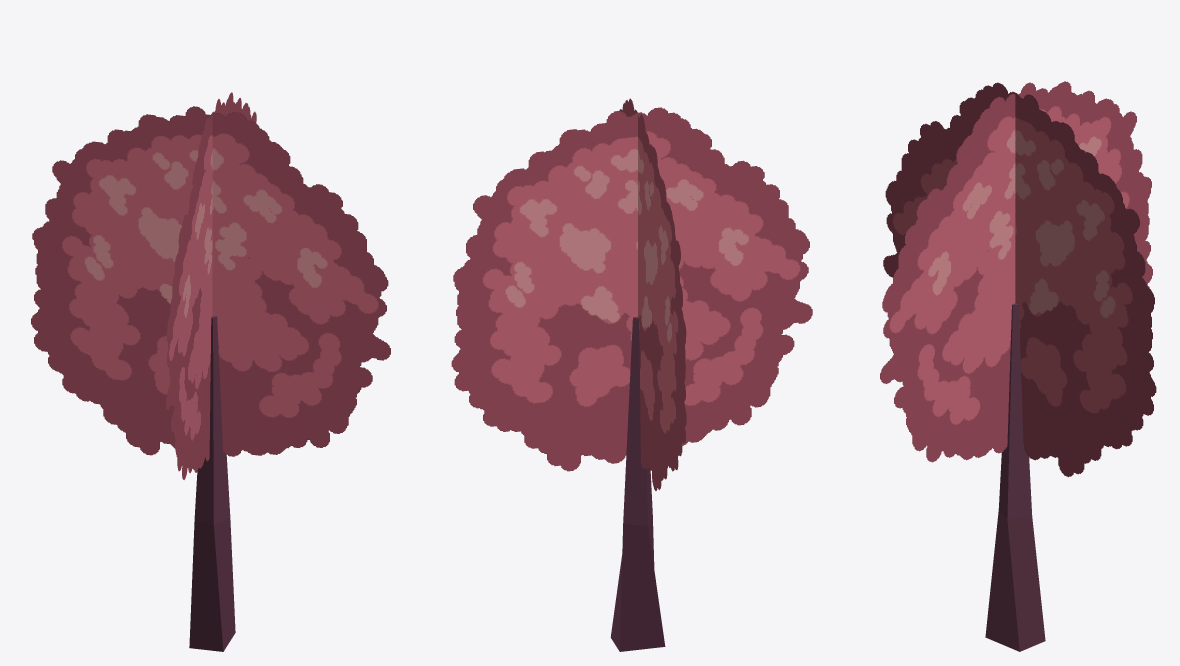
The model's file is small tree.fbx.
3 renders of one model, left to right at view 1: azimuth 30°, elevation 25°; view 2: azimuth 150°, elevation 25°; view 3: azimuth 270°, elevation 25°, orthographic. The views are drawn at different scales.
Parts seen in each view (by area): view 1: plane_1, plane, group; view 2: plane, plane_1, group; view 3: plane, plane_1, group.
Part boxes in pixels (x1=…): plane_1: x1=31, y1=106, x2=390, y2=456; plane: x1=165, y1=92, x2=256, y2=479; group: x1=189, y1=316, x2=235, y2=651; plane: x1=451, y1=107, x2=812, y2=471; plane_1: x1=619, y1=98, x2=686, y2=490; group: x1=610, y1=317, x2=665, y2=651; plane: x1=883, y1=82, x2=1156, y2=477; plane_1: x1=880, y1=81, x2=1152, y2=462; group: x1=985, y1=303, x2=1045, y2=651.
Size of the model in its own units: 309 by 638 by 309.
Materials: 1 (1 with a texture image).
